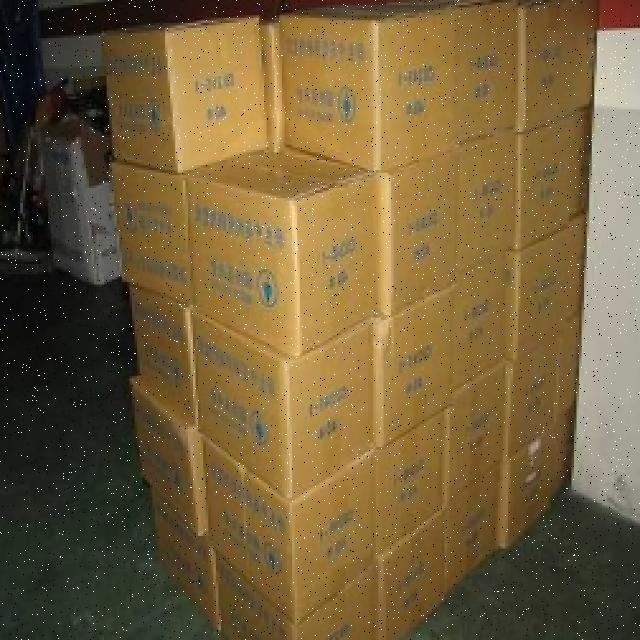box: (195, 151, 365, 339), (282, 0, 462, 165), (193, 331, 365, 471), (187, 454, 369, 583), (113, 14, 259, 163), (363, 136, 460, 302), (373, 264, 444, 428), (223, 566, 376, 640), (369, 408, 445, 548), (512, 106, 590, 236), (120, 396, 193, 524), (518, 1, 590, 126), (114, 163, 182, 291), (457, 0, 521, 135), (376, 515, 445, 640), (125, 530, 215, 617), (446, 258, 510, 379), (459, 138, 519, 264), (440, 372, 501, 489), (506, 228, 561, 354), (447, 465, 501, 592), (505, 345, 564, 447), (130, 308, 193, 392), (494, 447, 542, 553), (552, 213, 592, 327), (532, 424, 577, 508), (554, 312, 586, 410)
